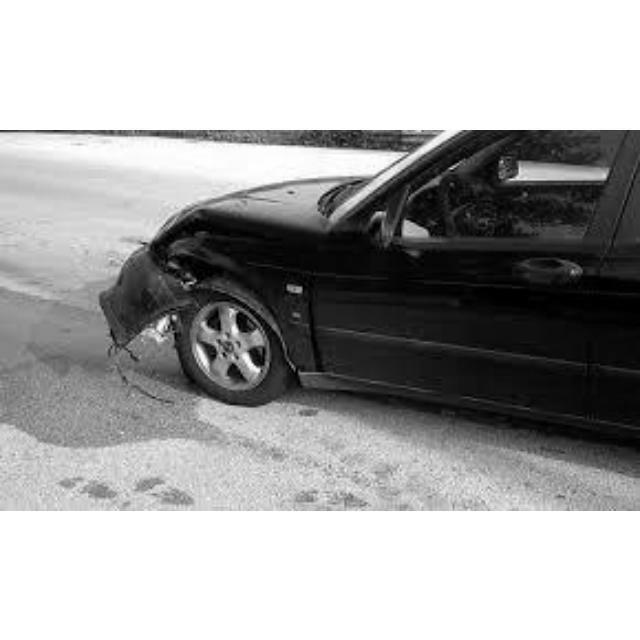bonnet-dent: (214, 180, 306, 237)
front-bumper-dent: (113, 262, 203, 356)
